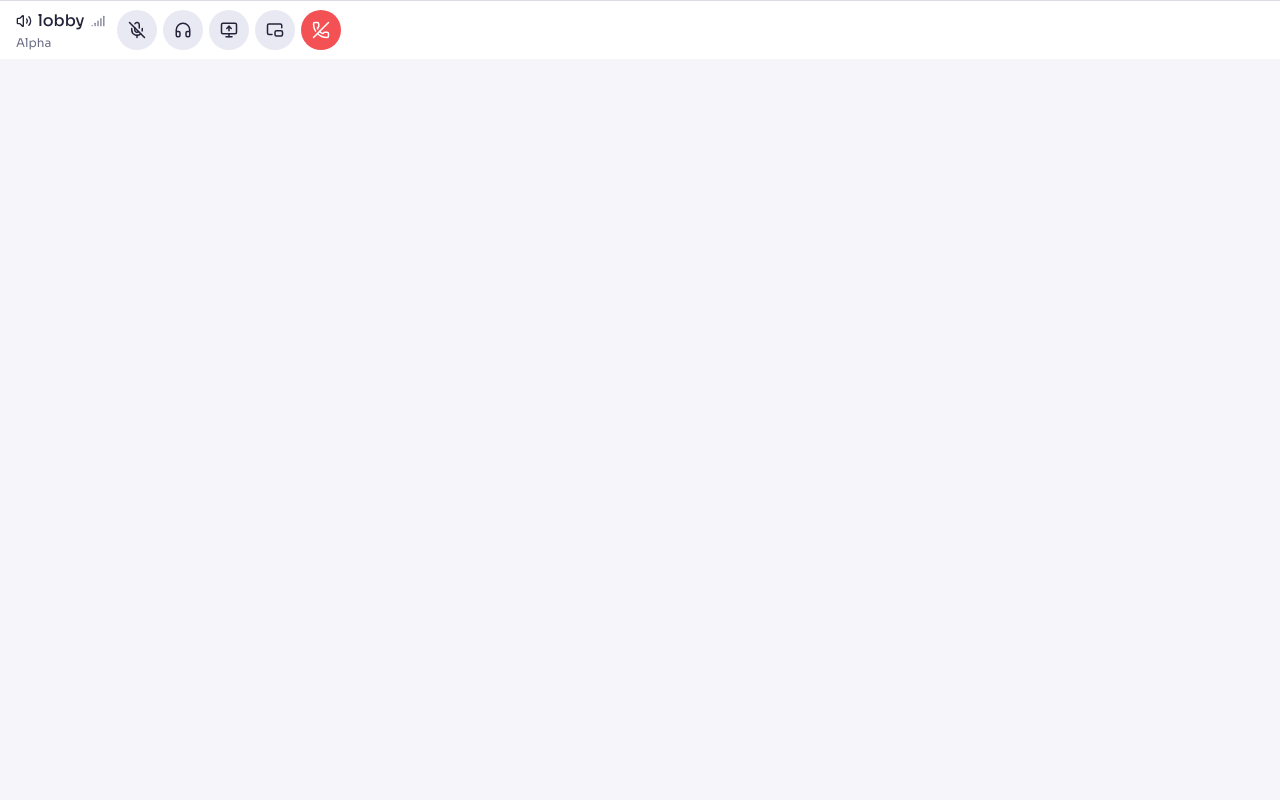
VoiceConnectionBar › screen share › starts sharing with the chosen quality and audio preference after confirming the modal
Expected: the text "Alpha" is shown, [16,35,51,50]
Click the button named "Share screen" at (228, 30), box [208,10,248,50]
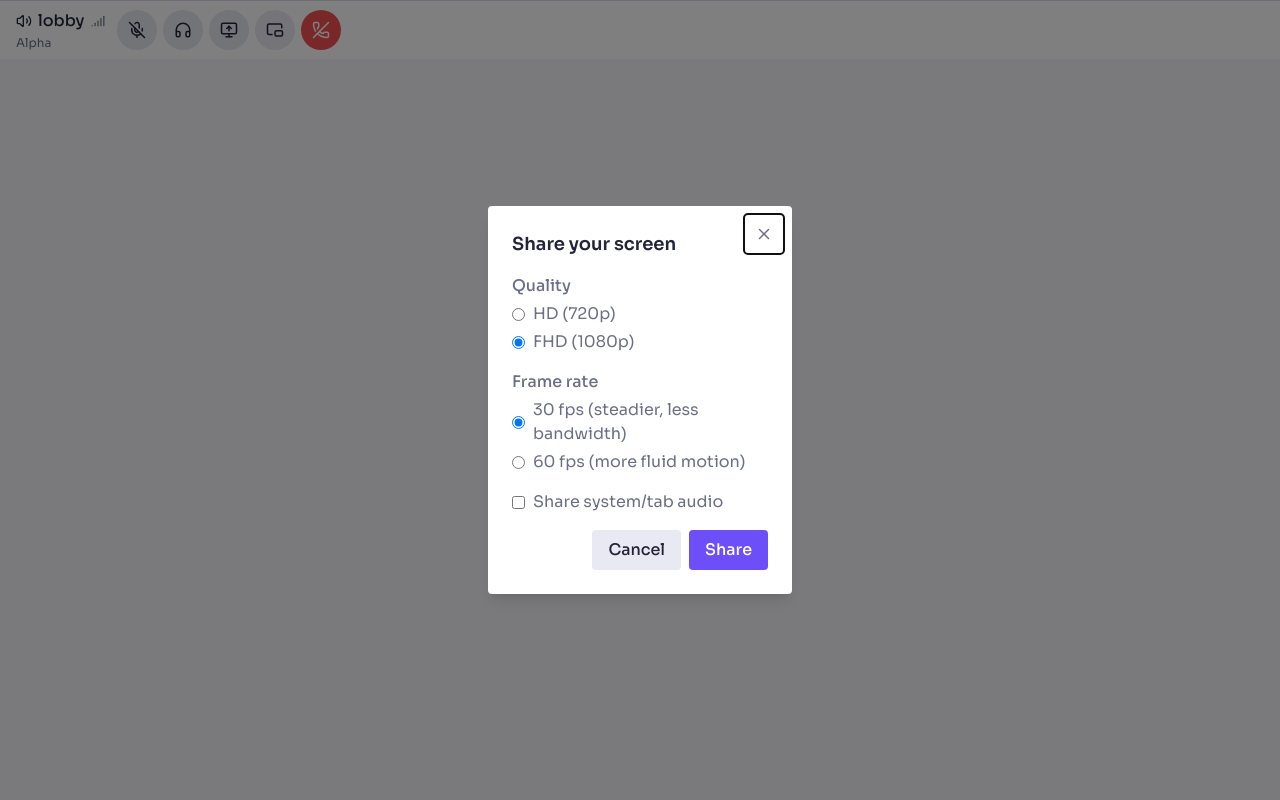
Click the radio button labelled "HD (720p)" at (518, 314), box [512,308,525,320]
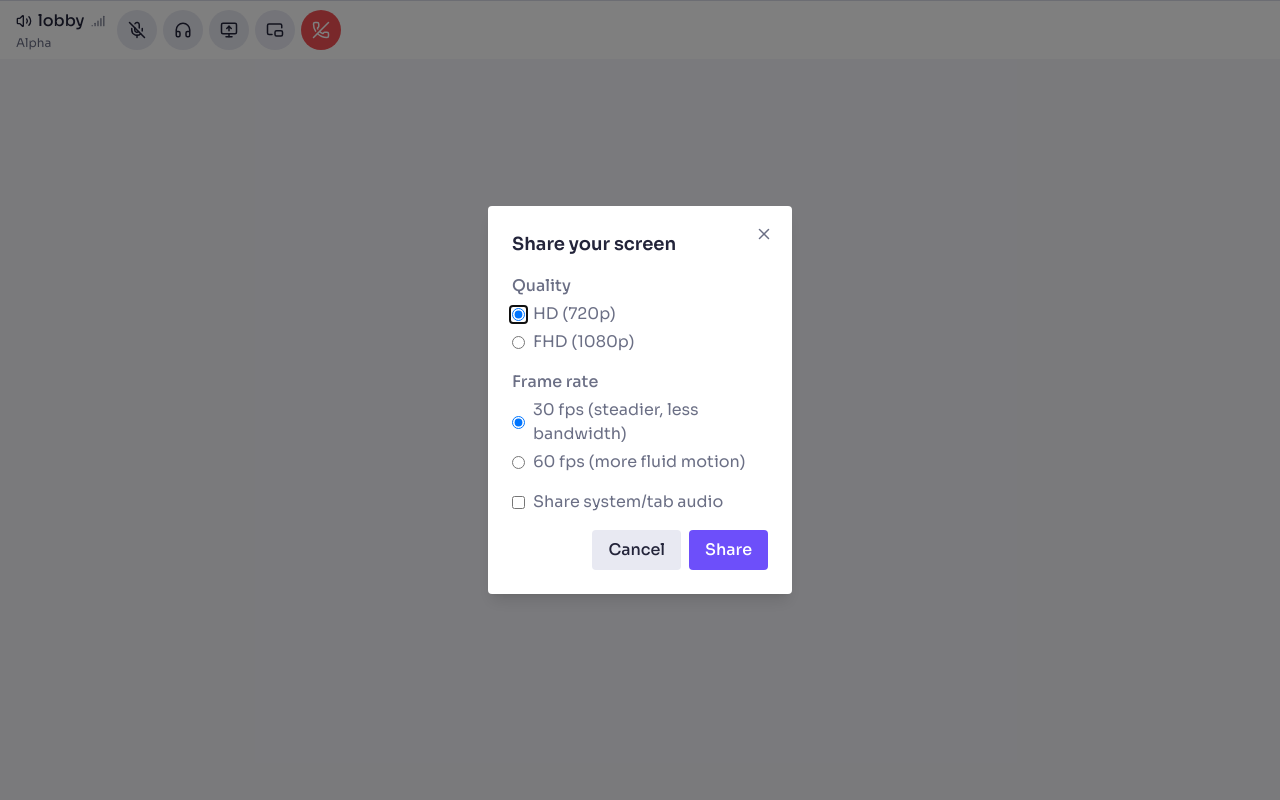
Click the checkbox labelled "Share system/tab audio" at (518, 502), box [512,496,525,508]
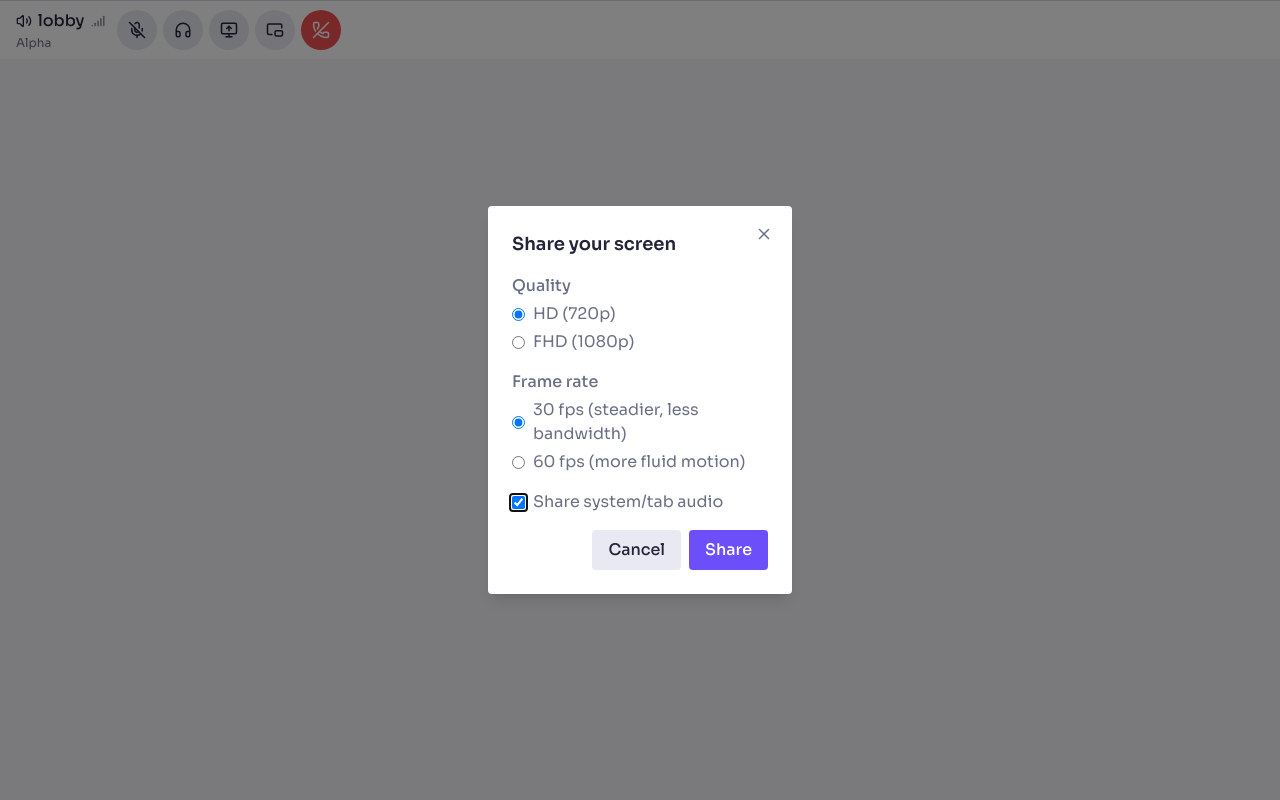
Click the button "Share" at (729, 550), box [689,530,768,570]
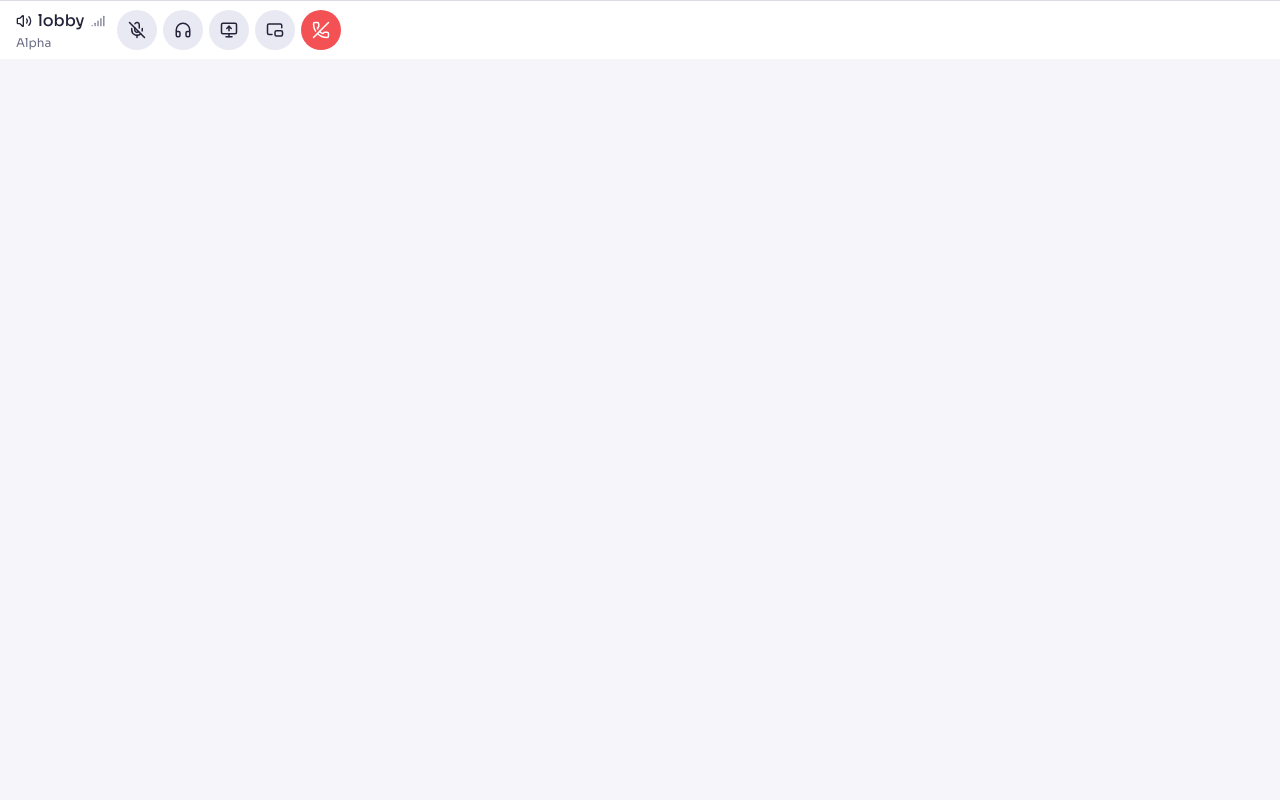
Expected: the heading "Share your screen" is gone
